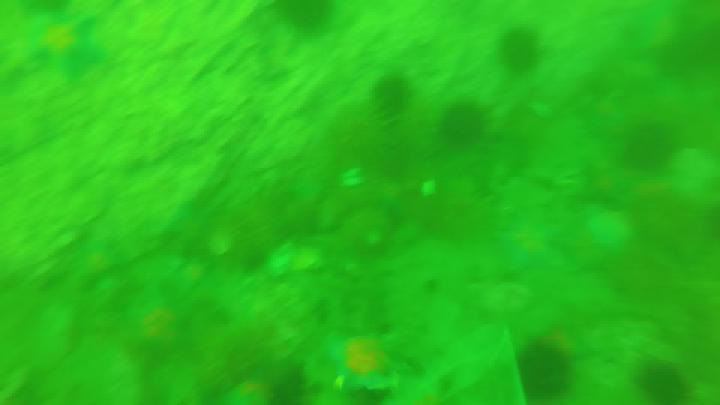echinus: (514, 341, 575, 405), (620, 121, 679, 170), (436, 103, 489, 147), (495, 30, 546, 74), (634, 363, 691, 402), (373, 72, 408, 116), (278, 2, 338, 27)
scallop: (266, 243, 293, 279), (208, 232, 232, 258)
starfish: (326, 334, 409, 392), (496, 226, 568, 273), (579, 206, 642, 256)
